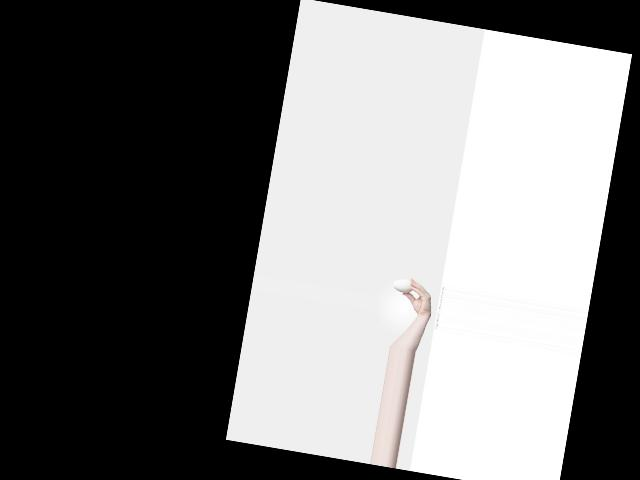egg: (392, 277, 414, 294)
